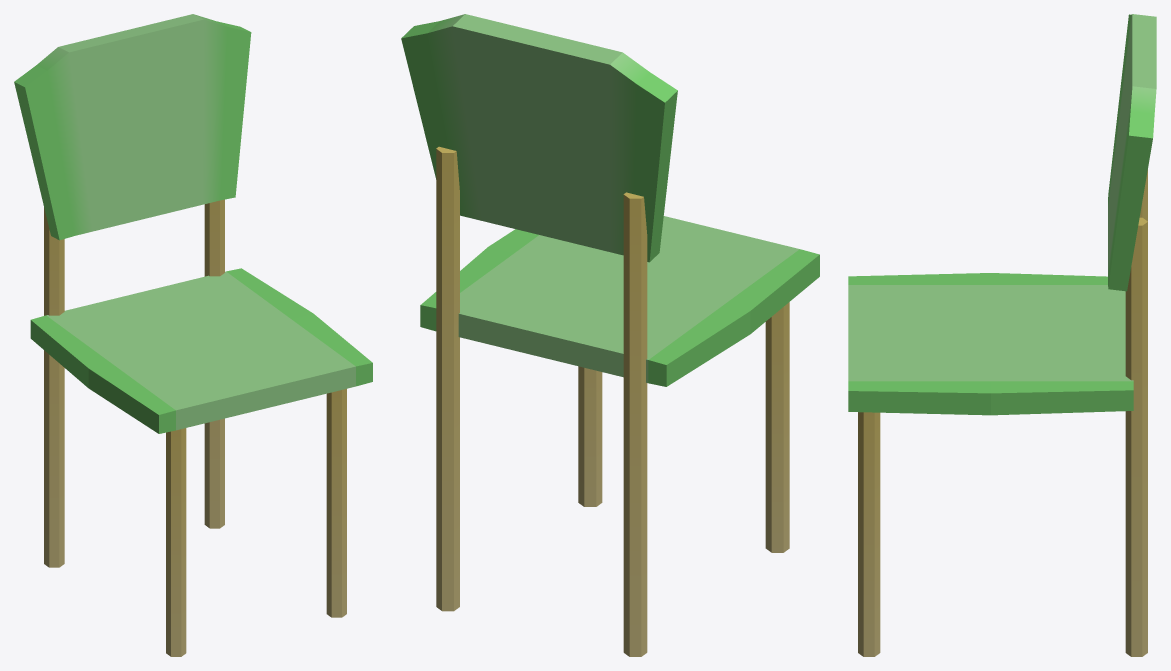
Rendered from cadeira.fbx.
The picture shows the model from 3 angles, left to right: view 1: azimuth 30°, elevation 25°; view 2: azimuth 150°, elevation 25°; view 3: azimuth 270°, elevation 25°; orthographic projection. The views are drawn at different scales.
Parts seen in each view (by area): view 1: Chair; view 2: Chair; view 3: Chair.
Boxes of the visible parts, bbox=[...] form: Chair: bbox=[14, 14, 372, 656]; Chair: bbox=[401, 14, 819, 656]; Chair: bbox=[848, 14, 1156, 656].
Size of the model in its own units: 42.25 by 91 by 45.4.
